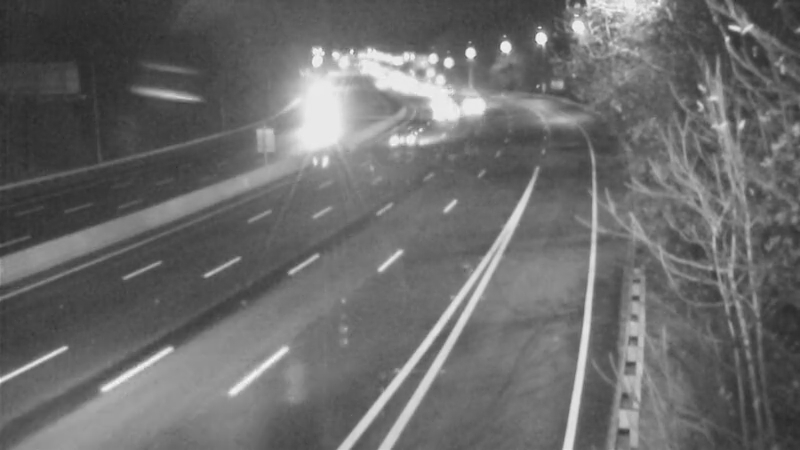vehicle: (446, 78, 496, 128), (415, 90, 465, 140), (384, 112, 434, 162), (286, 117, 336, 167)
